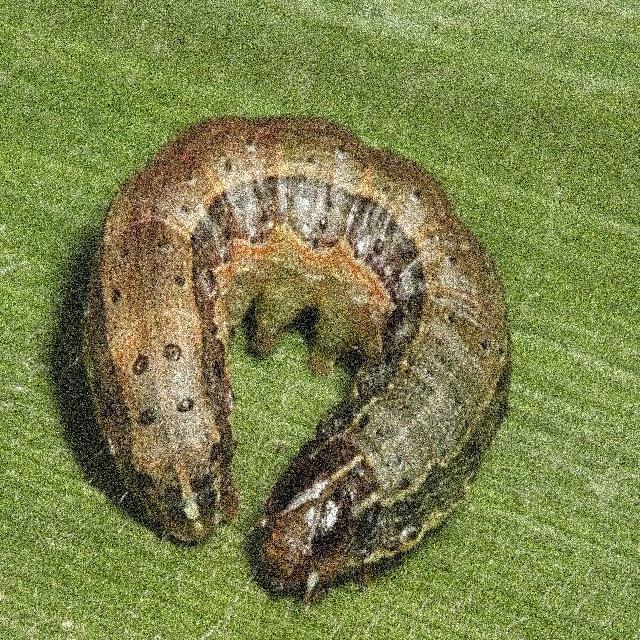Plaga: (77, 104, 519, 595)
